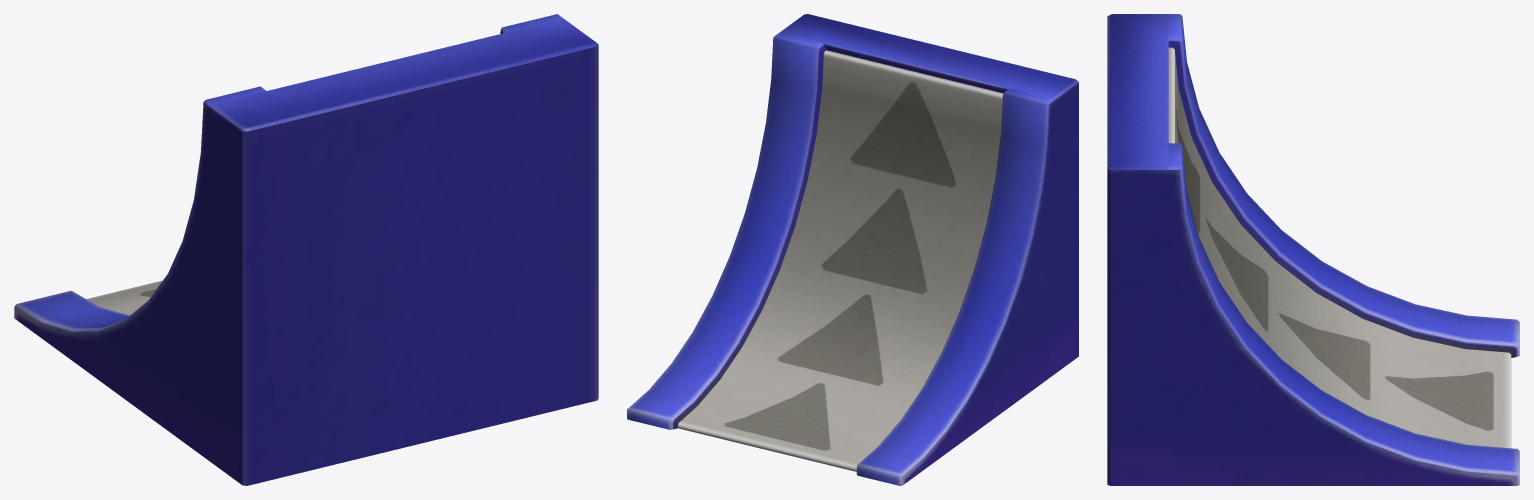
File: ramp.glb
3 views of the same model, side by side, from view 1: azimuth 30°, elevation 25°; view 2: azimuth 150°, elevation 25°; view 3: azimuth 270°, elevation 25° (orthographic). The views are drawn at different scales.
Parts seen in each view (by area): view 1: BgMIi_objgmk_dashboard01_01-material; view 2: BgMIi_objgmk_dashboard01_01-material; view 3: BgMIi_objgmk_dashboard01_01-material.
Part boxes in pixels (x1,y1,x2,y2): BgMIi_objgmk_dashboard01_01-material: (14,14,598,485); BgMIi_objgmk_dashboard01_01-material: (627,14,1078,485); BgMIi_objgmk_dashboard01_01-material: (1107,14,1519,485).
Bounding box in the file's own units: 2.09 × 2 × 2.35.
Materials: 1 (1 with a texture image).
